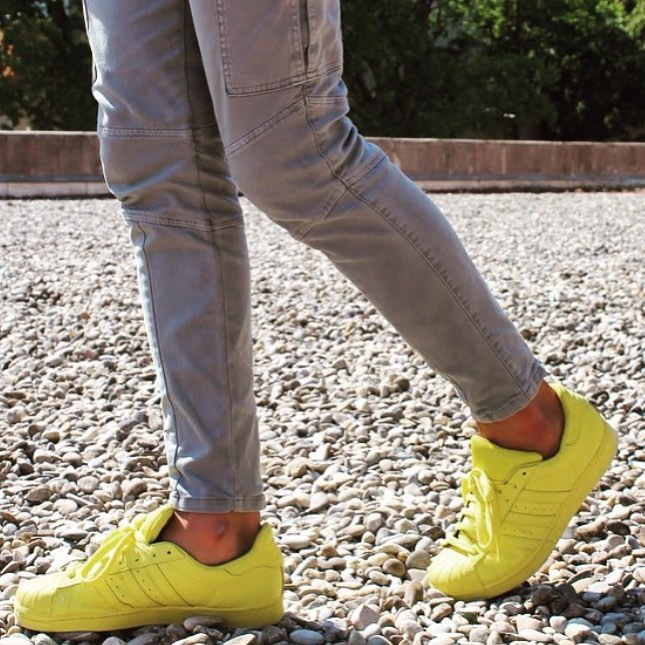sneaker: (412, 367, 633, 616), (1, 492, 310, 639)
